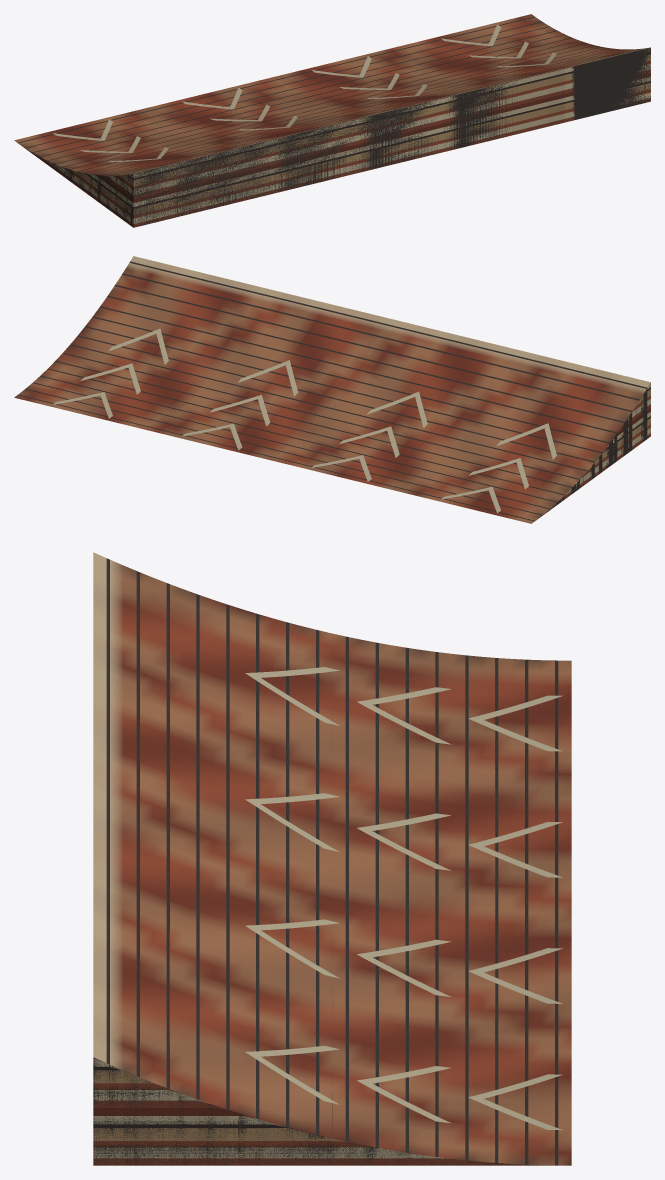
Rendered from mesa_lip_kicker_24x6x60.glb.
3 views of the same model, one above another, from view 1: azimuth 30°, elevation 25°; view 2: azimuth 150°, elevation 25°; view 3: azimuth 270°, elevation 25° (orthographic). The views are drawn at different scales.
Visible parts, largest first — view 1: mesa_lip_kicker_24x6x60, mesa_lip_kicker_24x6x60-col; view 2: mesa_lip_kicker_24x6x60, mesa_lip_kicker_24x6x60-col; view 3: mesa_lip_kicker_24x6x60, mesa_lip_kicker_24x6x60-col.
Boxes of the visible parts, x1,y1,x2,y2 form: mesa_lip_kicker_24x6x60: (14,14,650,227); mesa_lip_kicker_24x6x60-col: (17,16,650,227); mesa_lip_kicker_24x6x60: (14,256,650,523); mesa_lip_kicker_24x6x60-col: (17,261,650,521); mesa_lip_kicker_24x6x60: (93,552,571,1165); mesa_lip_kicker_24x6x60-col: (93,558,558,1165).
Bounding box in the file's own units: 60 × 6 × 24.
